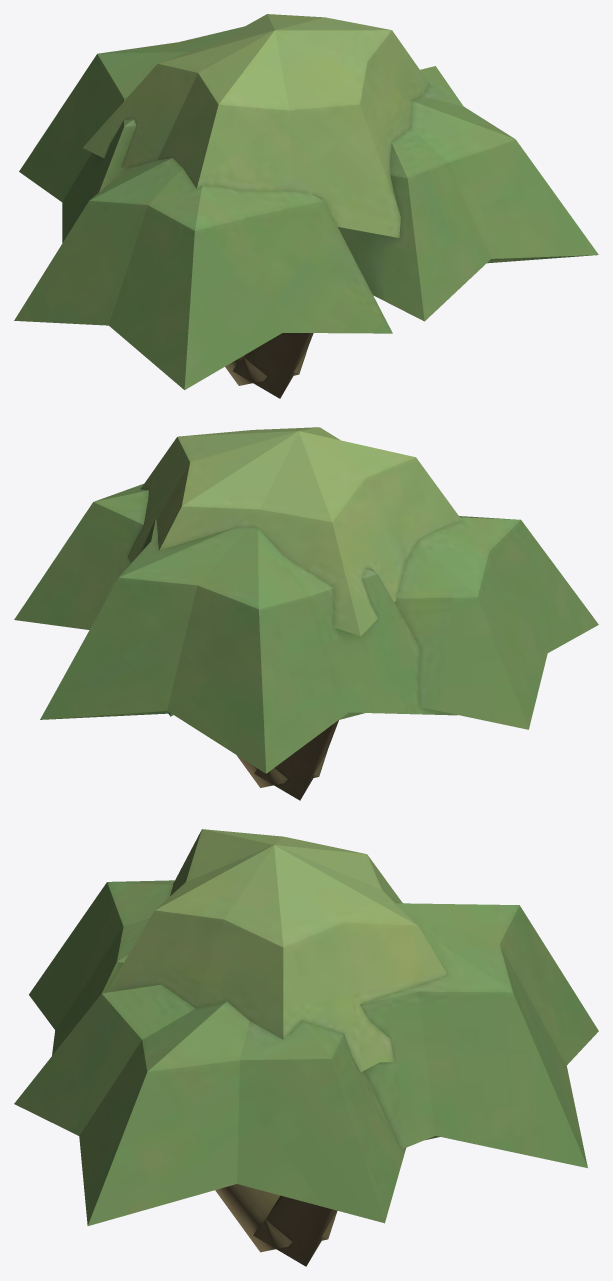
File: arbusto.glb
The picture shows the model from 3 angles, top to bottom: view 1: azimuth 30°, elevation 25°; view 2: azimuth 150°, elevation 25°; view 3: azimuth 270°, elevation 25°; orthographic projection. The views are drawn at different scales.
Visible parts, largest first — view 1: arbusto_corpo; view 2: arbusto_corpo; view 3: arbusto_corpo.
Boxes of the visible parts, x1,y1,x2,y2 form: arbusto_corpo: (14, 14, 598, 398); arbusto_corpo: (14, 427, 598, 800); arbusto_corpo: (14, 829, 598, 1266).
Bounding box in the file's own units: 0.61 × 0.43 × 0.5588.
Materials: 1 (1 with a texture image).
